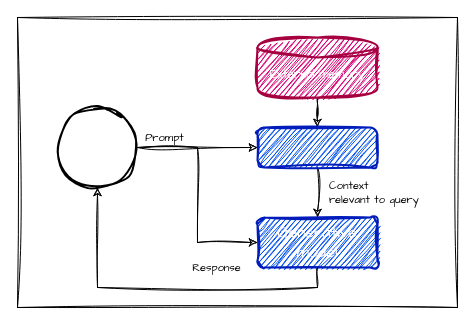
Some shapes in this 475 by 325 pixel diagram are drawn without their labels. The shapes that lost their labels are listed below. From the top down, each one's box as (x1, y1, x2, y2) in pixels, then its label:
(56, 106, 138, 188): Query
(256, 126, 378, 168): Retriever
